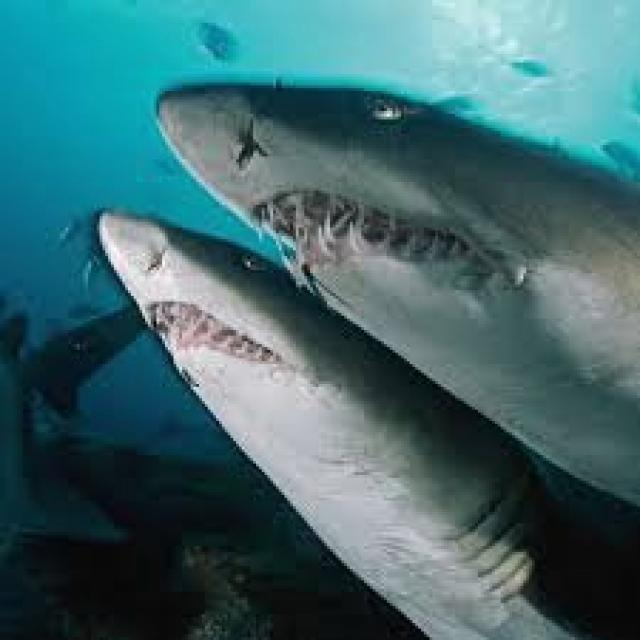shark: (100, 210, 637, 637), (156, 85, 637, 501)
